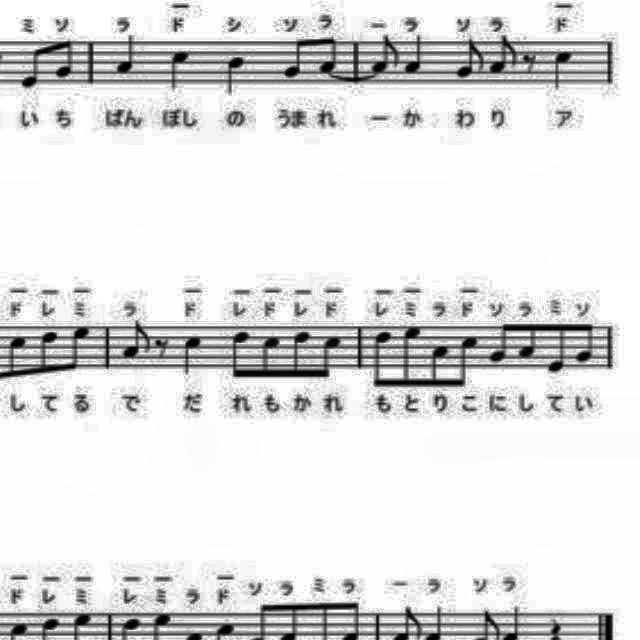Eighth-note: (366, 326, 394, 396), (488, 33, 524, 81), (398, 322, 422, 392), (456, 332, 484, 392), (287, 330, 317, 384), (118, 317, 154, 361), (318, 331, 346, 385), (68, 320, 95, 374), (16, 42, 44, 94), (226, 328, 254, 380), (454, 39, 488, 79), (2, 332, 30, 380), (544, 319, 568, 375), (427, 340, 451, 394), (49, 34, 75, 82), (316, 32, 344, 76), (279, 38, 307, 82), (260, 332, 284, 383), (37, 328, 61, 376), (574, 316, 598, 364), (488, 322, 512, 366), (516, 322, 540, 362)
Eighth-rest: (366, 31, 402, 77), (518, 48, 542, 76), (150, 334, 173, 360)
Quarter-note: (164, 44, 200, 92), (106, 31, 142, 78), (177, 330, 207, 378), (220, 52, 252, 96), (553, 46, 579, 96), (404, 33, 428, 76)
